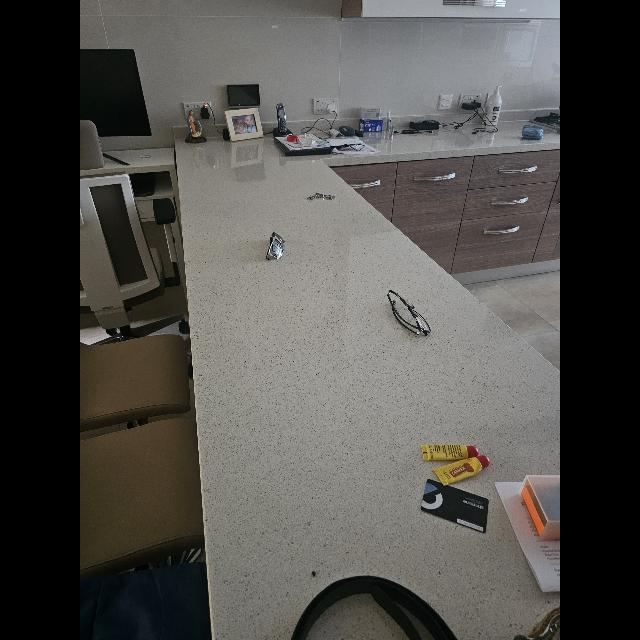Sunglasses: (266, 232, 284, 260)
glasses: (387, 290, 431, 336)
